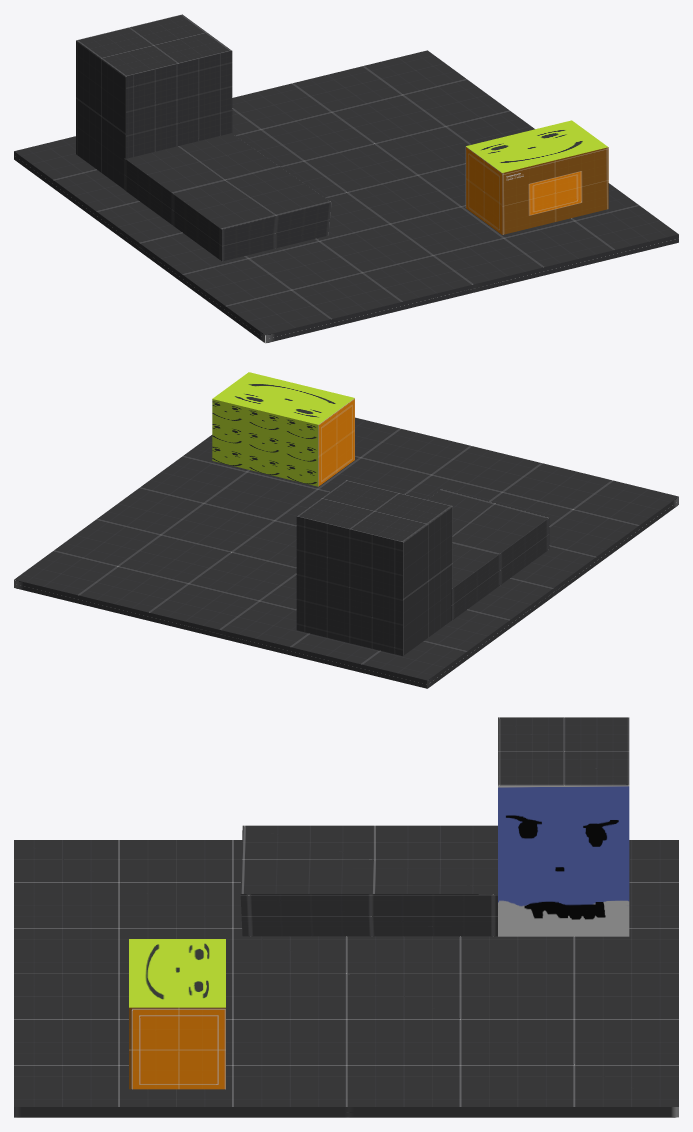
File: map.gltf
3 renders of one model, top to bottom at view 1: azimuth 30°, elevation 25°; view 2: azimuth 150°, elevation 25°; view 3: azimuth 270°, elevation 25°, orthographic. The views are drawn at different scales.
Parts seen in each view (by area): view 1: Cube; view 2: Cube; view 3: Cube.
Boxes of the visible parts, box(x1,y1,x2,y2) form: Cube: box(14, 14, 678, 343); Cube: box(14, 372, 678, 688); Cube: box(14, 717, 678, 1117).
Bounding box in the file's own units: 11.62 × 3.29 × 12.24.
4 materials, 4 textured.
